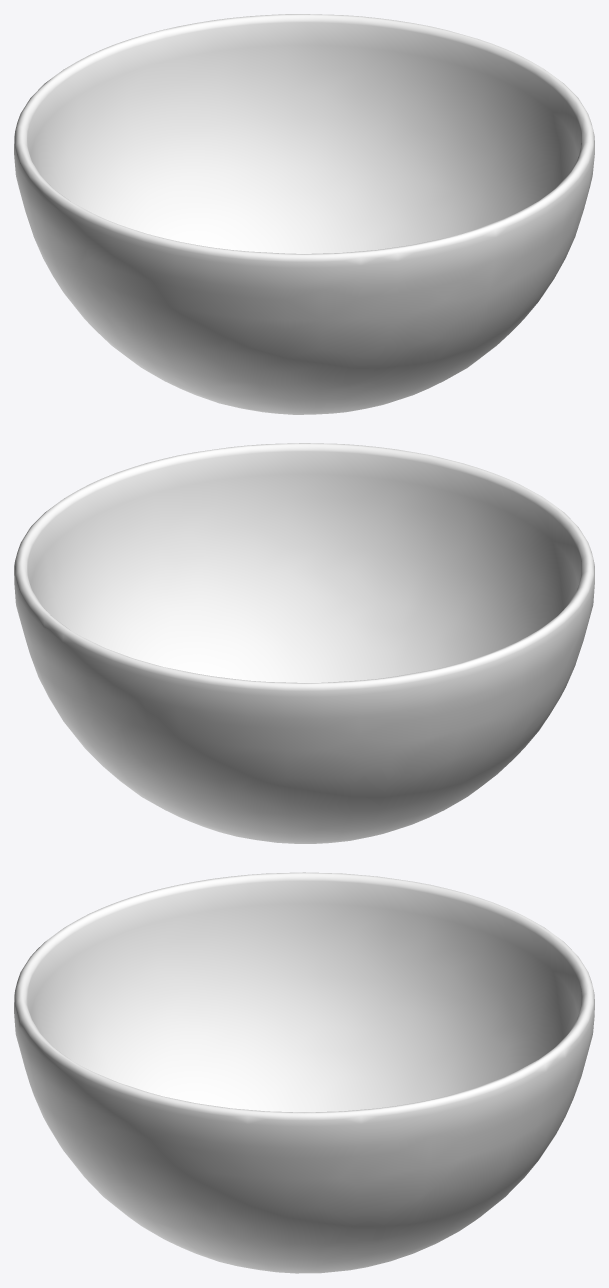
File: BLANDA Saladier, verre transparent, 20 cm.glb
3 views of the same model, one above another, from view 1: azimuth 30°, elevation 25°; view 2: azimuth 150°, elevation 25°; view 3: azimuth 270°, elevation 25° (orthographic).
Parts seen in each view (by area): view 1: model; view 2: model; view 3: model.
Boxes of the visible parts, x1,y1,x2,y2 form: model: (14,14,594,414); model: (14,443,594,843); model: (14,872,594,1273).
Bounding box in the file's own units: 0.2007 × 0.0923 × 0.2007.
Materials: 1 (1 with a texture image).
